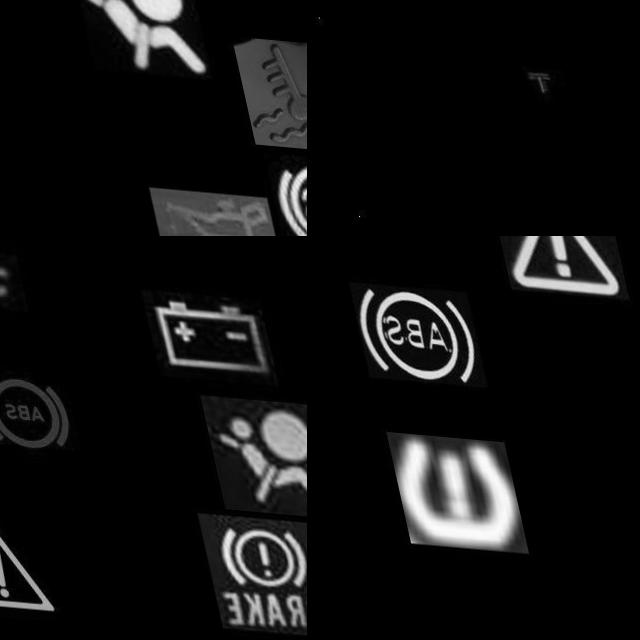Central Warning lamp: (483, 236, 619, 293), (0, 500, 49, 626)
Engine cooling system: (220, 32, 307, 148)
